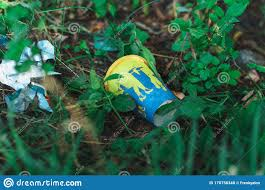paper_cup: (103, 53, 182, 129)
